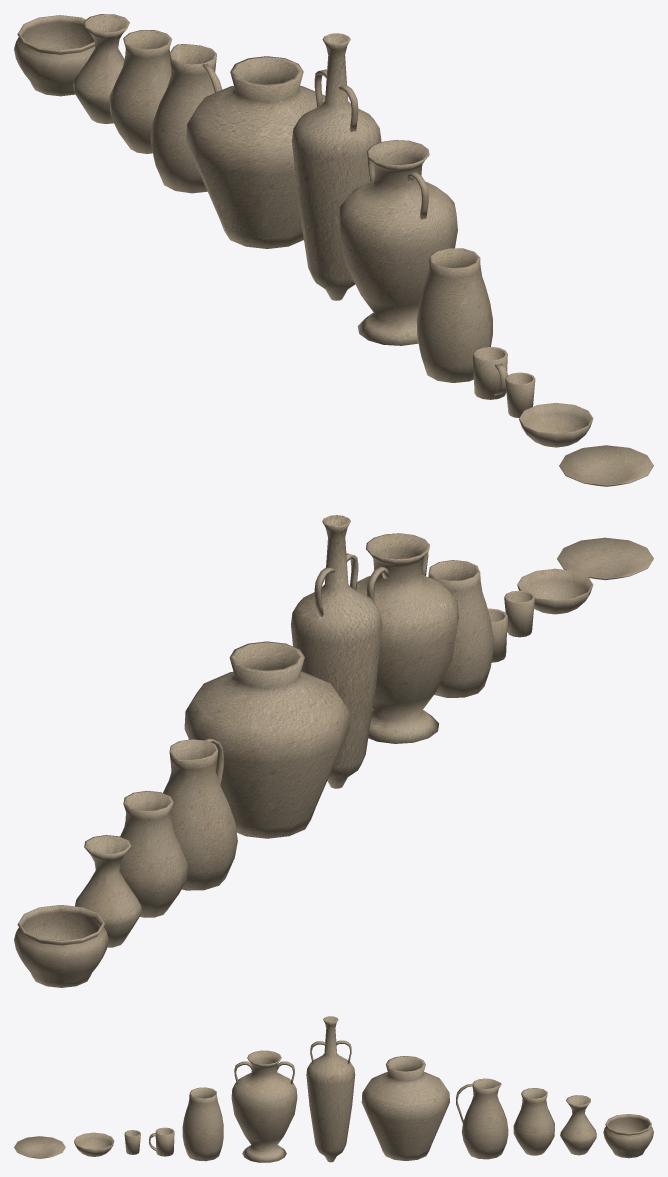
File: vazy 3.fbx
3 renders of one model, top to bottom at view 1: azimuth 30°, elevation 25°; view 2: azimuth 150°, elevation 25°; view 3: azimuth 270°, elevation 25°, orthographic. The views are drawn at different scales.
Parts seen in each view (by area): view 1: Circle, Circle.005, Circle.002, Cube.001, Cube.002, Cube, Circle.007, Cube.003, Circle.003, Circle.004, Circle.006, Circle.001; view 2: Circle, Circle.005, Circle.002, Cube.002, Cube, Circle.007, Cube.001, Cube.003, Circle.003, Circle.004, Circle.001, Circle.006; view 3: Circle, Circle.005, Circle.002, Cube.002, Cube.001, Cube, Circle.007, Cube.003, Circle.003, Circle.004, Circle.006, Circle.001.
Boxes of the visible parts, box(x1,y1,x2,y2) form: Circle: box(186, 56, 325, 248); Circle.005: box(338, 140, 457, 345); Circle.002: box(292, 33, 381, 300); Cube.001: box(417, 248, 492, 382); Cube.002: box(150, 44, 222, 193); Cube: box(109, 30, 172, 153); Circle.007: box(14, 15, 95, 96); Cube.003: box(73, 14, 129, 123); Circle.003: box(559, 445, 653, 486); Circle.004: box(519, 403, 593, 447); Circle.006: box(473, 346, 507, 399); Circle.001: box(505, 372, 535, 417); Circle: box(184, 641, 349, 838); Circle.005: box(356, 533, 458, 743); Circle.002: box(291, 515, 382, 788); Cube.002: box(163, 738, 237, 890); Cube: box(119, 791, 187, 917); Circle.007: box(14, 905, 108, 987); Cube.001: box(428, 560, 493, 697); Cube.003: box(75, 835, 142, 947); Circle.003: box(557, 537, 653, 580); Circle.004: box(517, 568, 593, 614); Circle.001: box(504, 590, 534, 637); Circle.006: box(488, 608, 508, 662); Circle: box(361, 1056, 449, 1160); Circle.005: box(231, 1050, 297, 1162); Circle.002: box(306, 1016, 355, 1162); Cube.002: box(456, 1078, 508, 1159); Cube.001: box(182, 1087, 223, 1161); Cube: box(513, 1088, 554, 1155); Circle.007: box(603, 1114, 653, 1158); Cube.003: box(560, 1095, 596, 1155); Circle.003: box(14, 1136, 65, 1158); Circle.004: box(74, 1132, 114, 1156); Circle.006: box(149, 1127, 174, 1156); Circle.001: box(124, 1130, 140, 1154).
Bounding box in the file's own units: 135 × 239 × 977.
